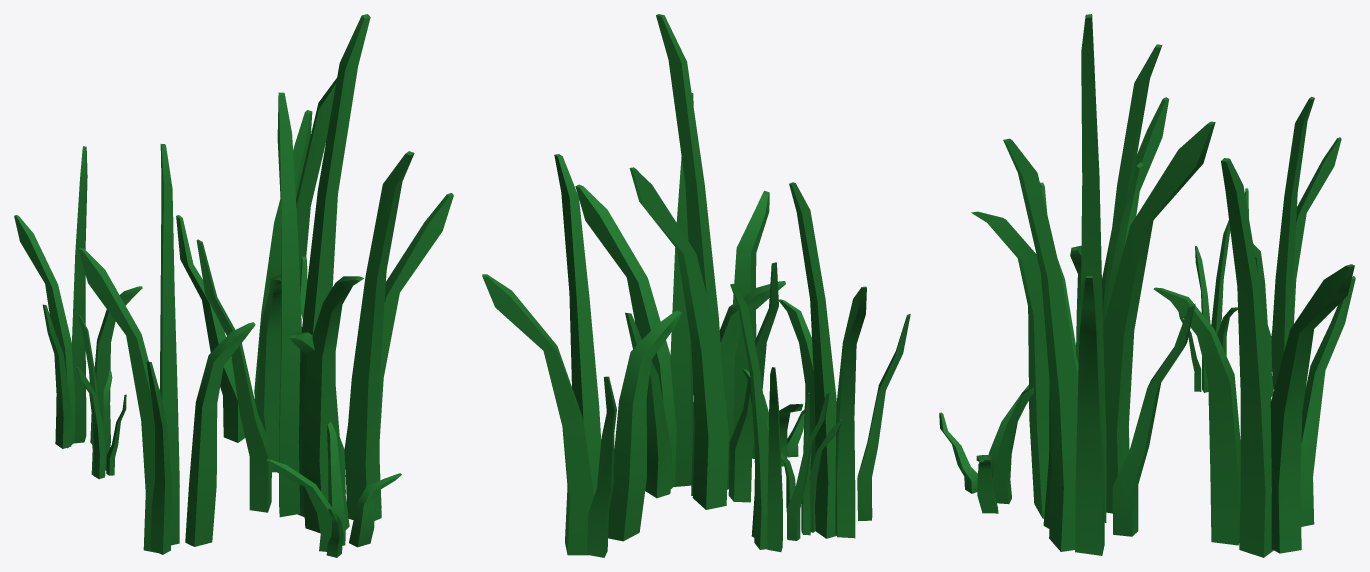
File: Grass5.fbx
The picture shows the model from 3 angles, left to right: view 1: azimuth 30°, elevation 25°; view 2: azimuth 150°, elevation 25°; view 3: azimuth 270°, elevation 25°; orthographic projection. The views are drawn at different scales.
Parts seen in each view (by area): view 1: GrassLight2; view 2: GrassLight2; view 3: GrassLight2.
Part boxes in pixels (x1,y1,x2,y2): GrassLight2: (14, 14, 453, 557); GrassLight2: (482, 14, 910, 557); GrassLight2: (939, 14, 1355, 557).
Bounding box in the file's own units: 1.62 × 2.26 × 1.59.
